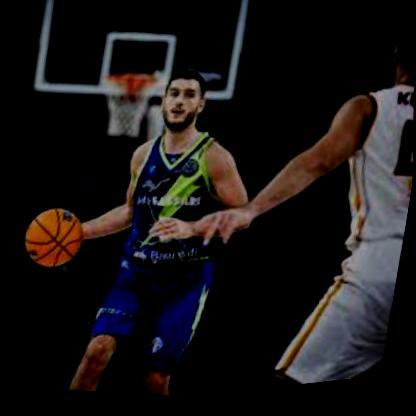basketball: (18, 202, 87, 276)
rim: (100, 71, 163, 98)
